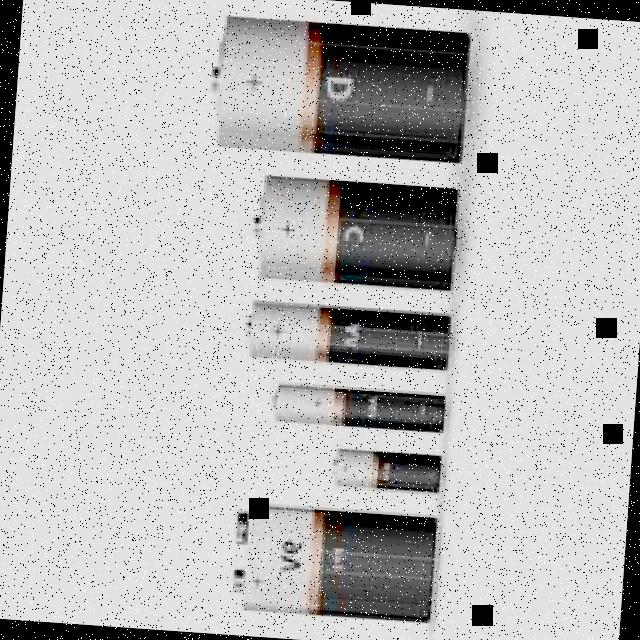battery: (207, 17, 470, 164), (231, 503, 436, 623), (251, 176, 459, 292), (243, 301, 450, 371), (269, 383, 444, 433), (330, 448, 440, 494)
